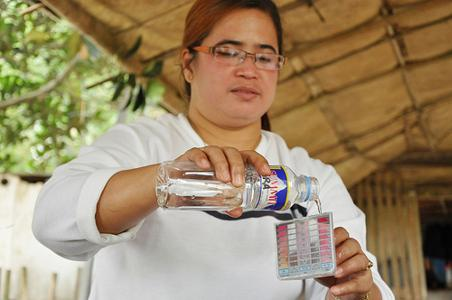person: (30, 2, 396, 299)
